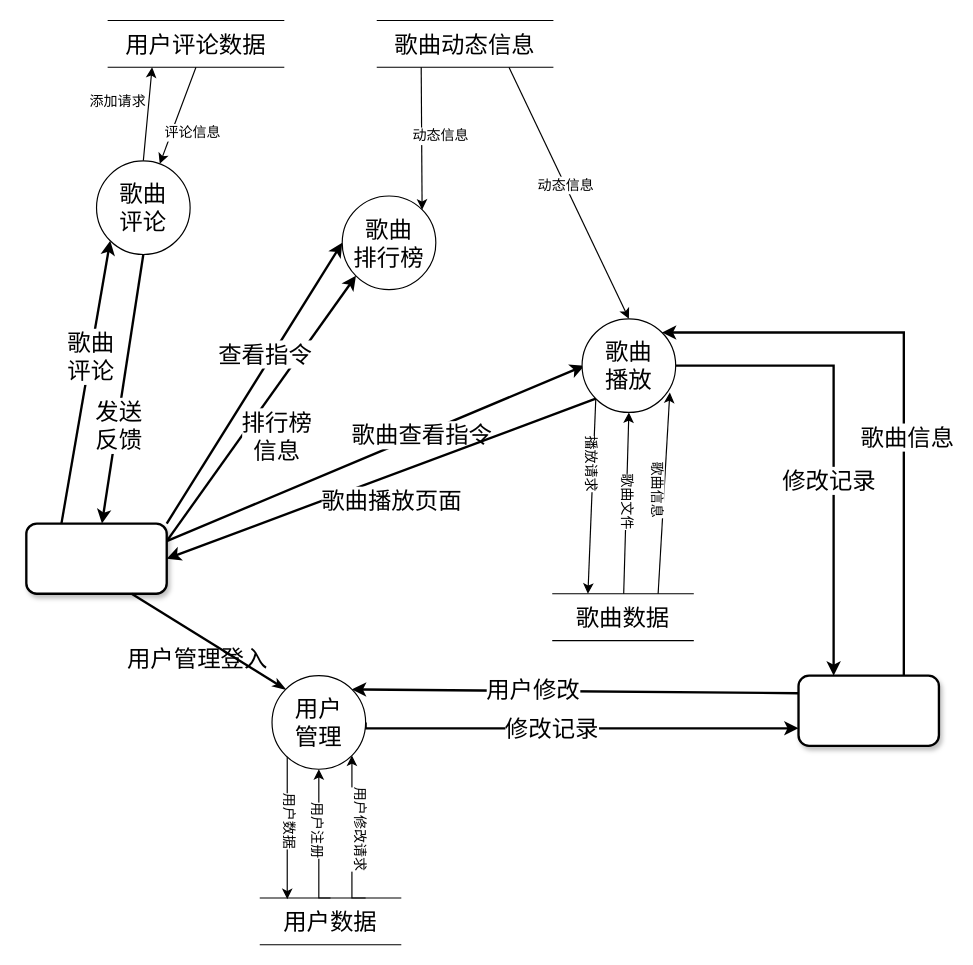
Some shapes in this 973 by 965 pixel diagram are drawn without their labels. Each missing label, with the centre of its shape:
用户: [97,560]
管理员: [869,712]
